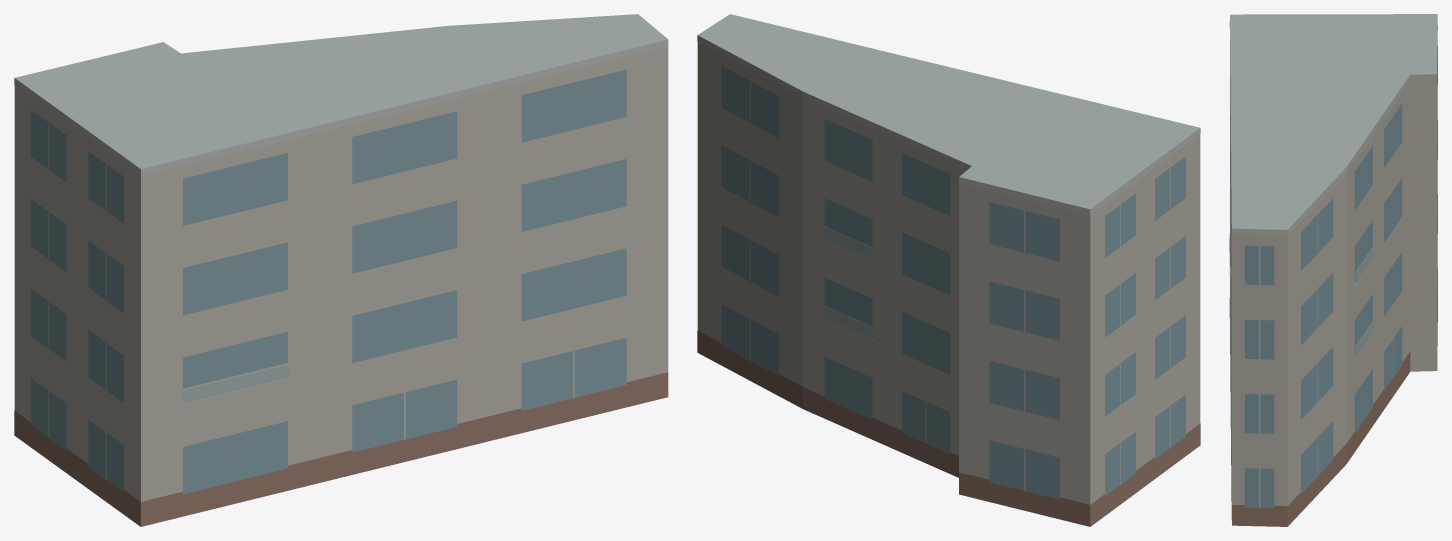
Rendered from survey-upis-32774170.glb.
3 views of the same model, side by side, from view 1: azimuth 30°, elevation 25°; view 2: azimuth 150°, elevation 25°; view 3: azimuth 270°, elevation 25° (orthographic). The views are drawn at different scales.
Parts seen in each view (by area): view 1: survey-upis-32774170.tmp; view 2: survey-upis-32774170.tmp; view 3: survey-upis-32774170.tmp.
Boxes of the visible parts, x1=… form: survey-upis-32774170.tmp: x1=14, y1=14, x2=668, y2=526; survey-upis-32774170.tmp: x1=697, y1=14, x2=1200, y2=526; survey-upis-32774170.tmp: x1=1229, y1=14, x2=1437, y2=526.
Size of the model in its own units: 19.04 by 12.2 by 7.78.
